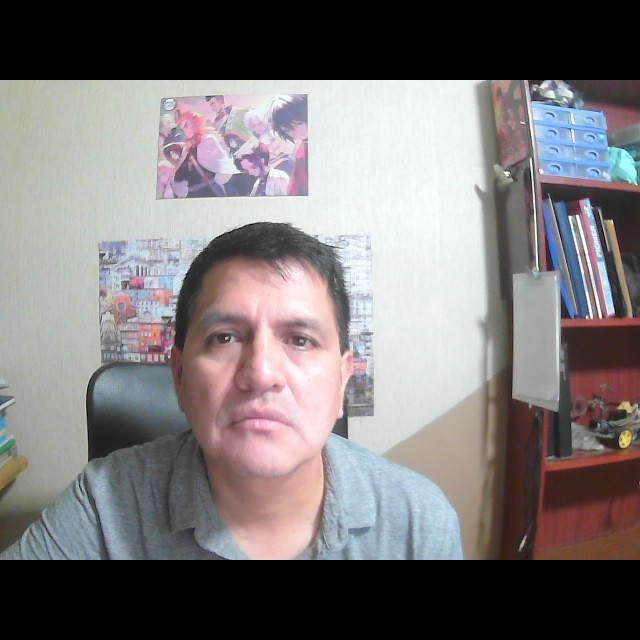cesar: (141, 199, 377, 495)
